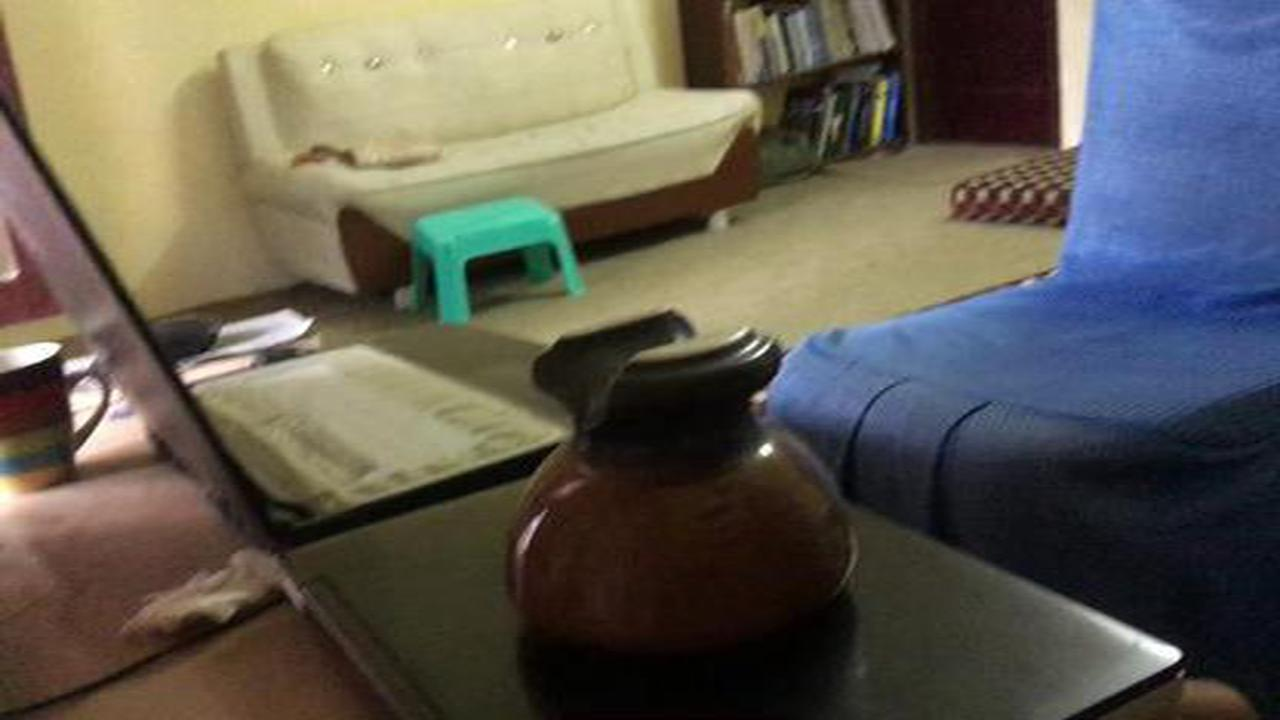insulator_pin: (471, 298, 881, 677)
